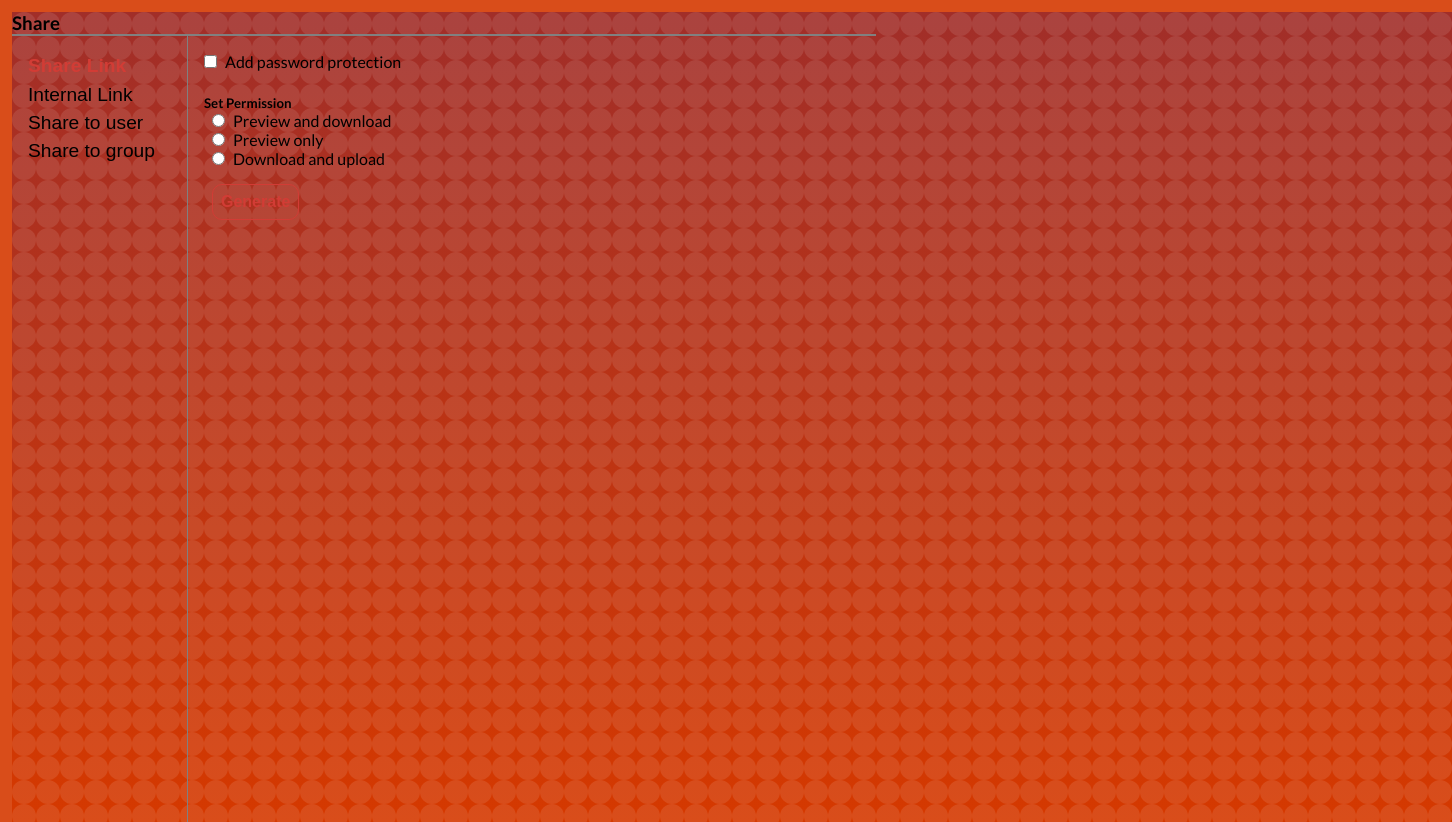
Test: Share › should change through tabs
The image size is (1452, 822).
Click the button "Internal Link" at (80, 95), box [28,80,132,109]
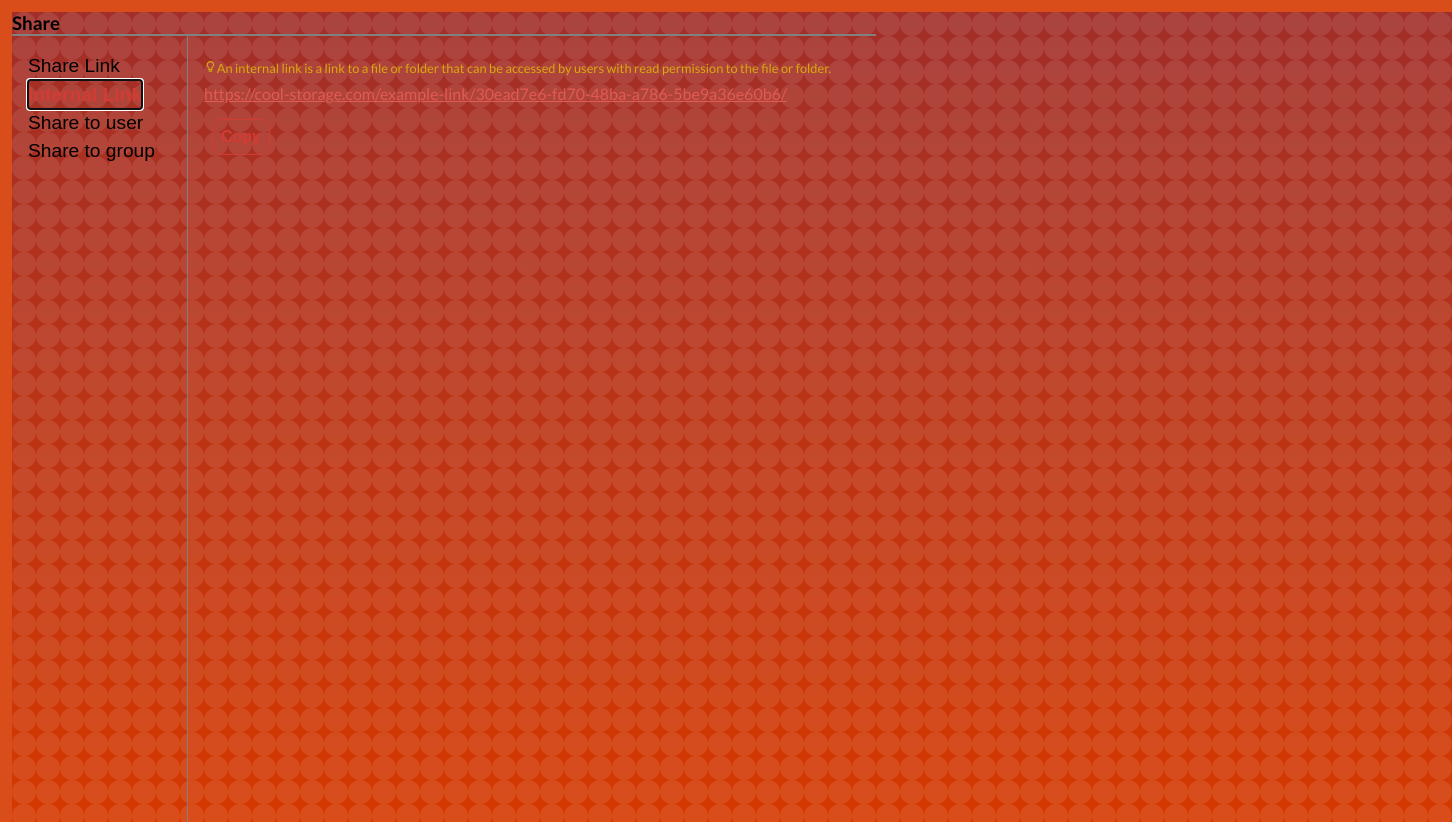
Expected: the text "An internal link is a link to a file or folder" is shown, [217,60,831,76]
Click the button "Share to user" at (86, 123), box [28,109,143,137]
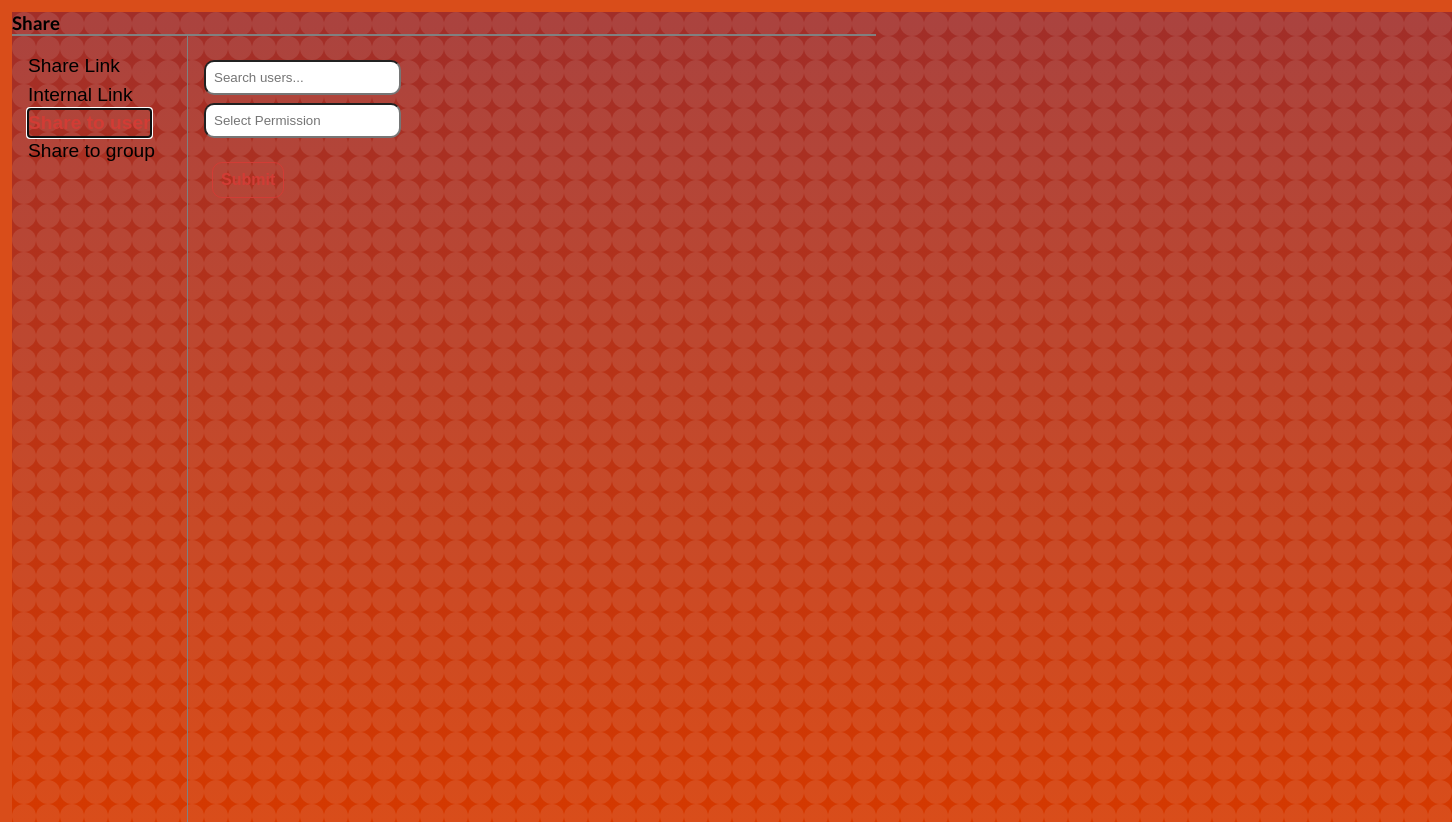
Expected: the field with placeholder "Search users..." is shown, [204,60,401,95]
Click the button "Share to group" at (92, 151), box [28,137,155,166]
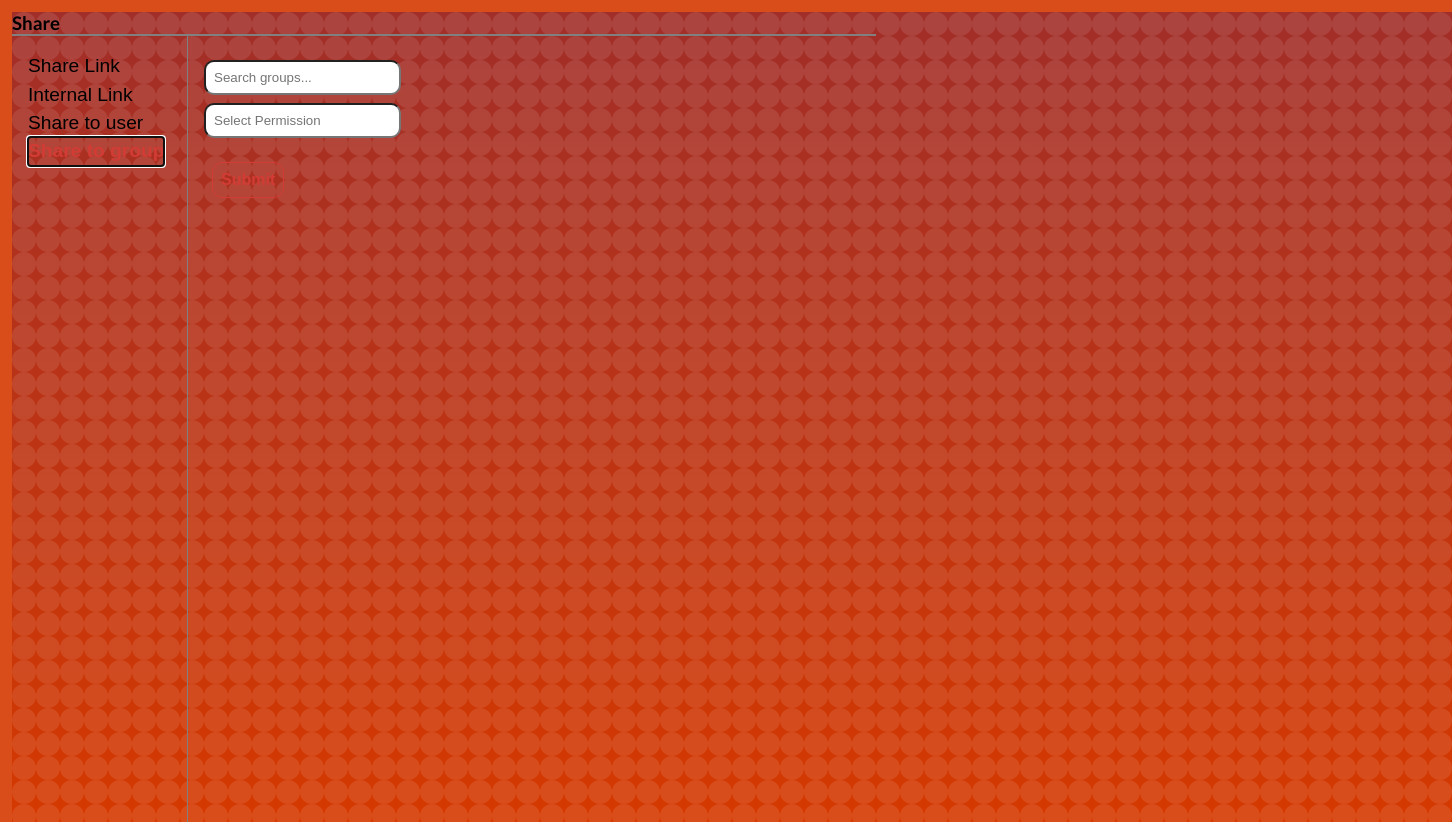
Expected: the field with placeholder "Search groups..." is shown, [204,60,401,95]
Click the button "Share Link" at (74, 66), box [28,52,120,80]
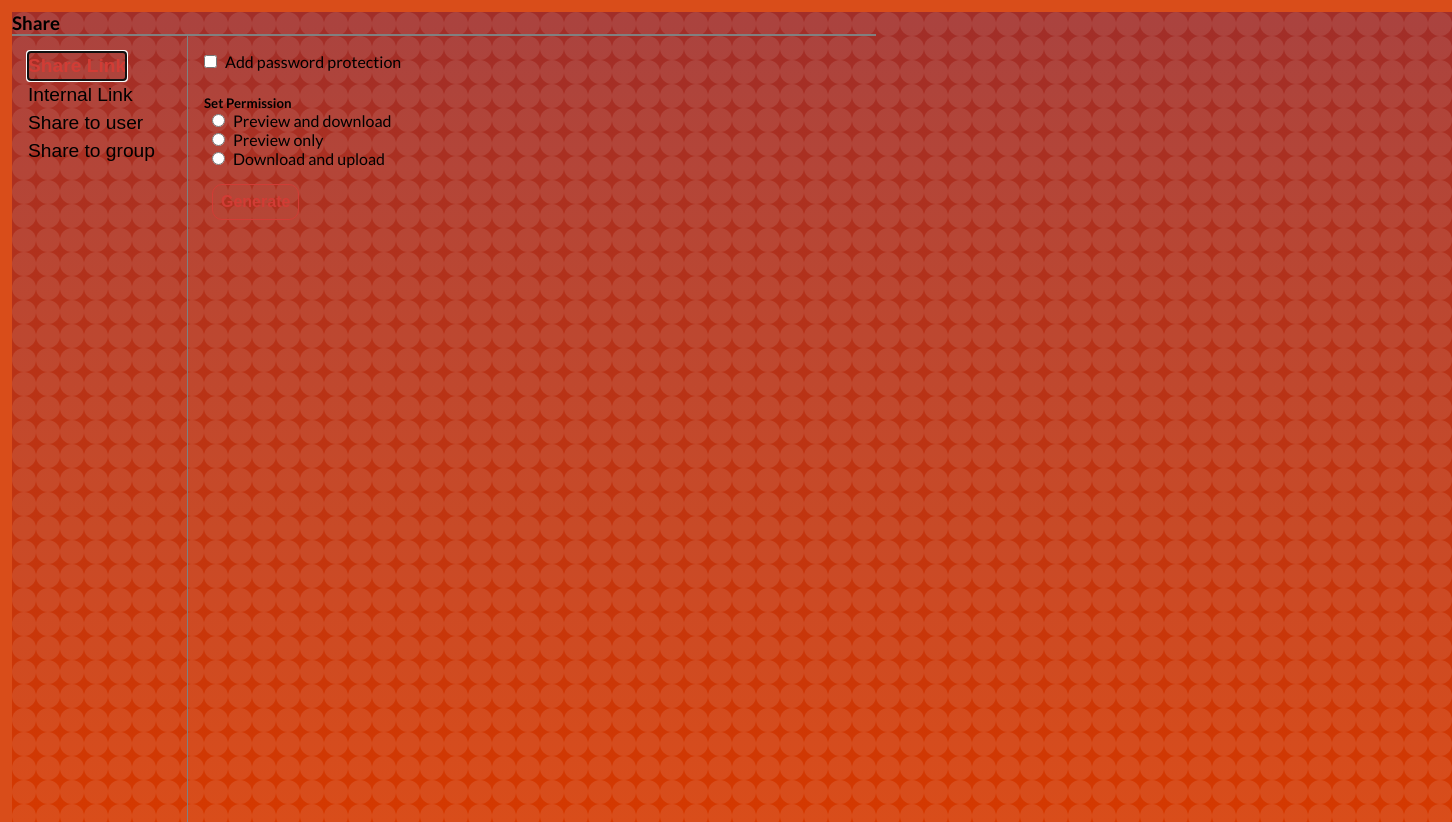
Expected: the text "Add password protection" is shown, [217,52,401,71]
